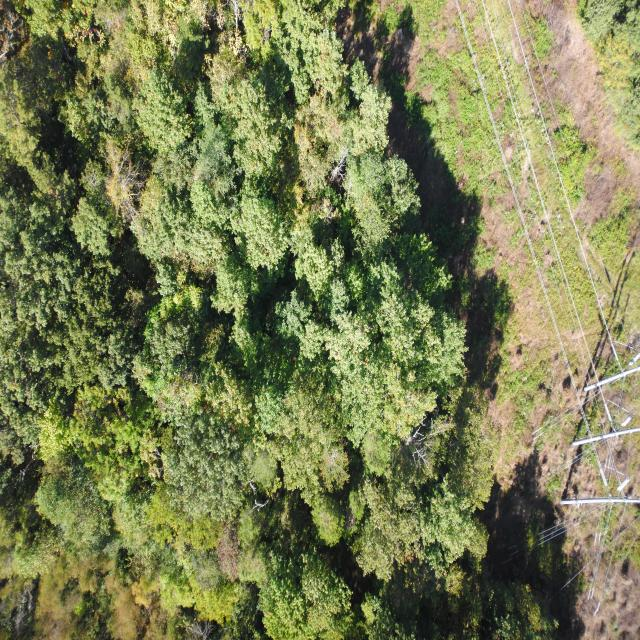Area of Interest: (9, 5, 522, 620)
